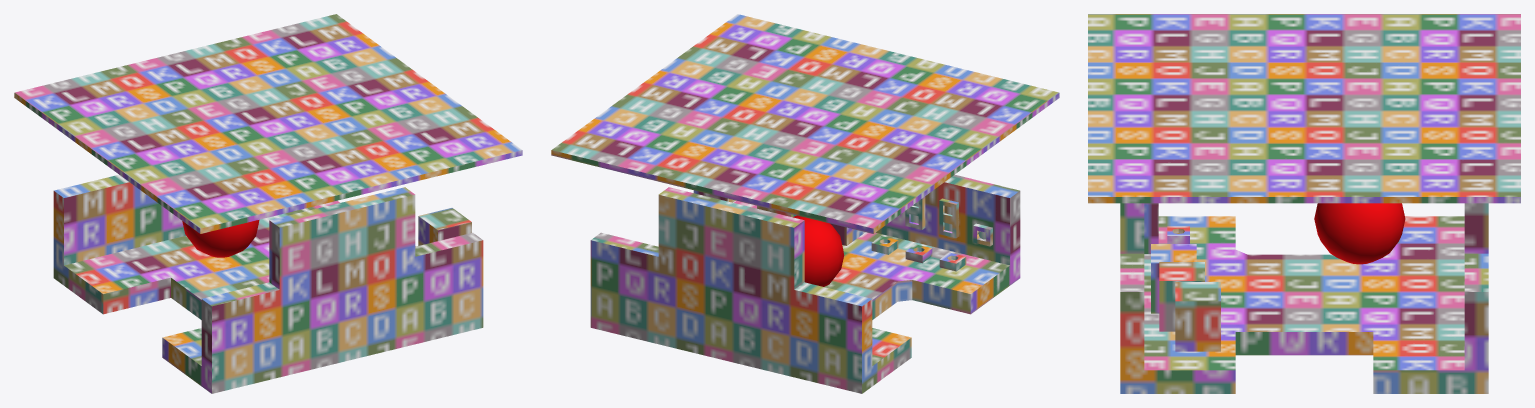
File: test_small.glb
3 renders of one model, left to right at view 1: azimuth 30°, elevation 25°; view 2: azimuth 150°, elevation 25°; view 3: azimuth 270°, elevation 25°, orthographic. The views are drawn at different scales.
Visible parts, largest first — view 1: blank_sep13, blank_sep9; view 2: blank_sep13, blank_sep9; view 3: blank_sep13, blank_sep9.
Boxes of the visible parts, <box> form: blank_sep13: <box>14,14,522,393</box>; blank_sep9: <box>182,220,259,257</box>; blank_sep13: <box>551,14,1059,393</box>; blank_sep9: <box>793,215,844,286</box>; blank_sep13: <box>1088,14,1520,393</box>; blank_sep9: <box>1314,203,1405,264</box>.
Size of the model in its own units: 9.49 by 5.12 by 9.49.
Materials: 2 (2 with a texture image).
